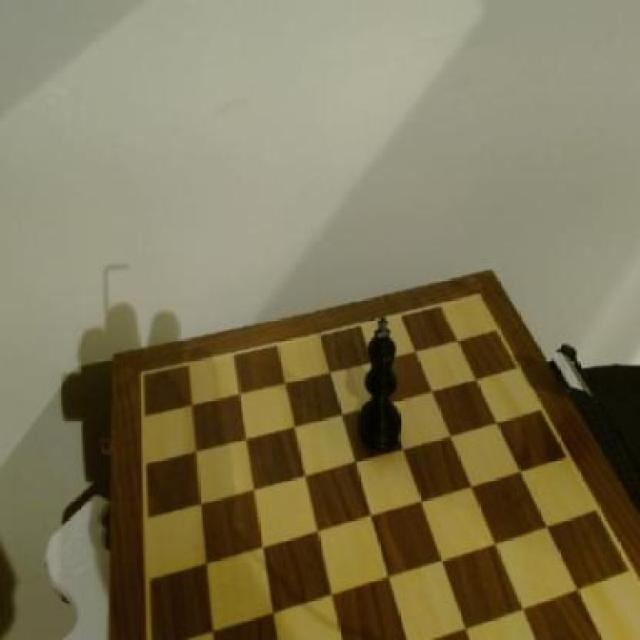black-bishop: (358, 316, 404, 458)
